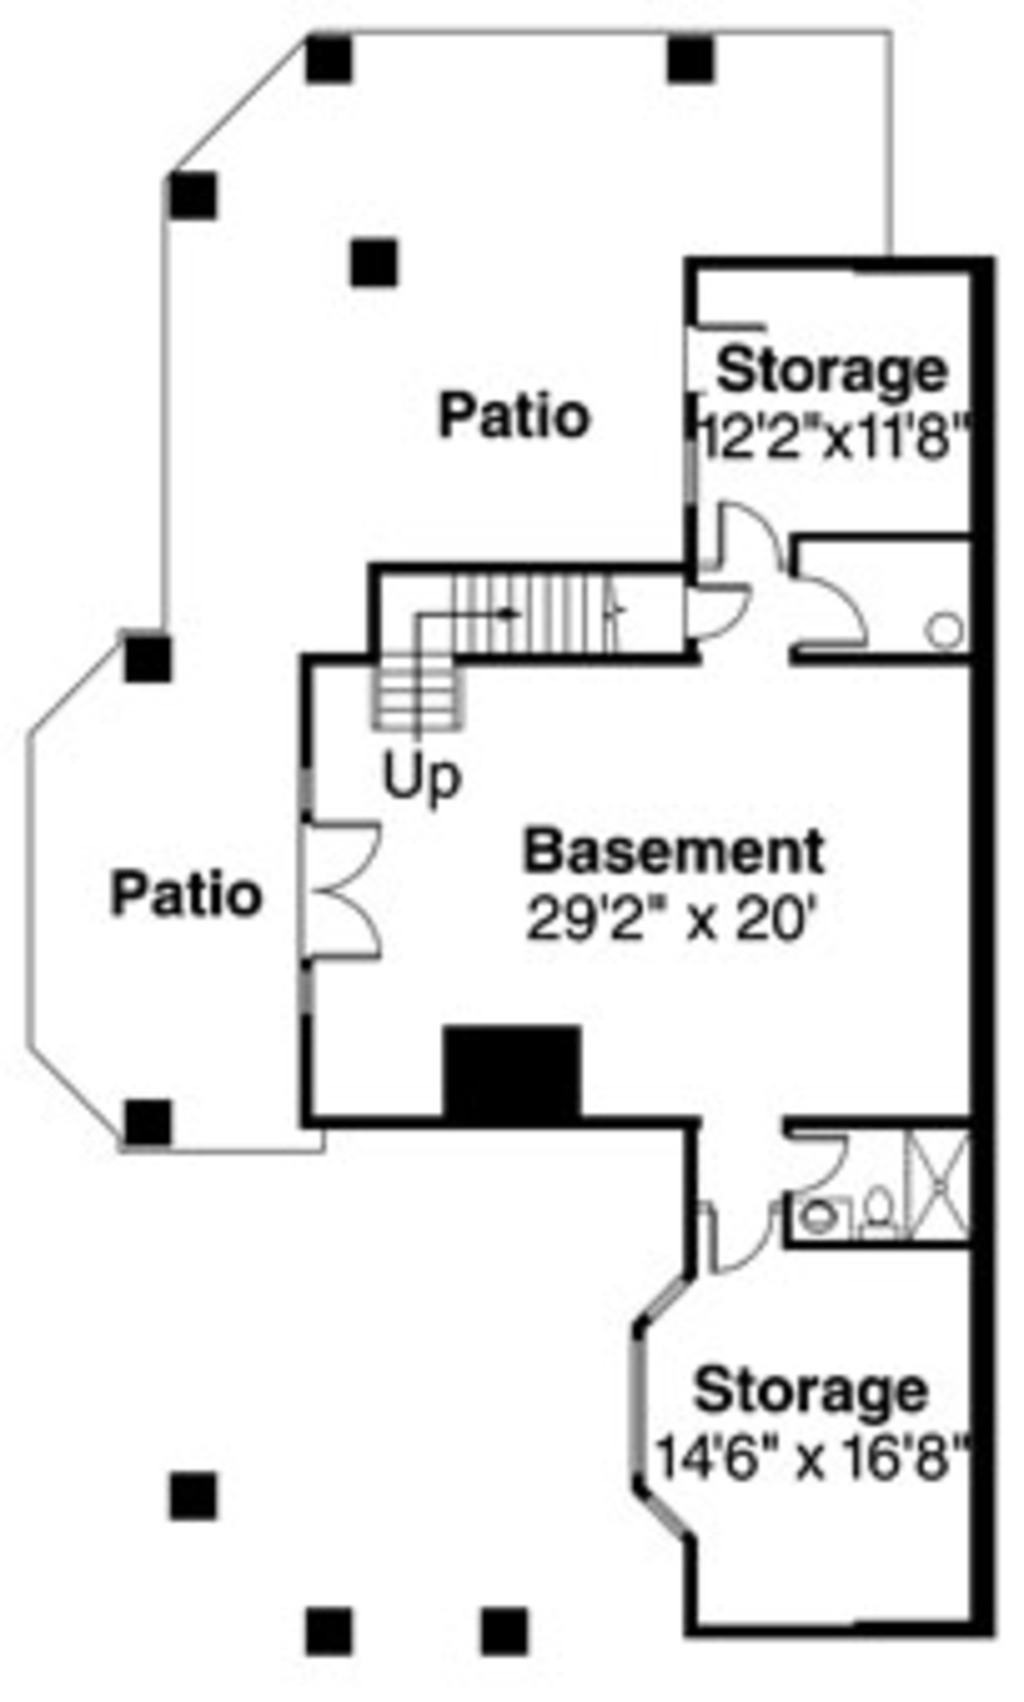door: (304, 805, 378, 965), (767, 570, 872, 660), (701, 1202, 780, 1289), (770, 1120, 863, 1191), (677, 570, 759, 652), (707, 505, 778, 588)
large_sink: (851, 1170, 901, 1244)
small_sink: (780, 1197, 854, 1244)
stairs: (354, 557, 677, 762)
window: (614, 1259, 714, 1544)
